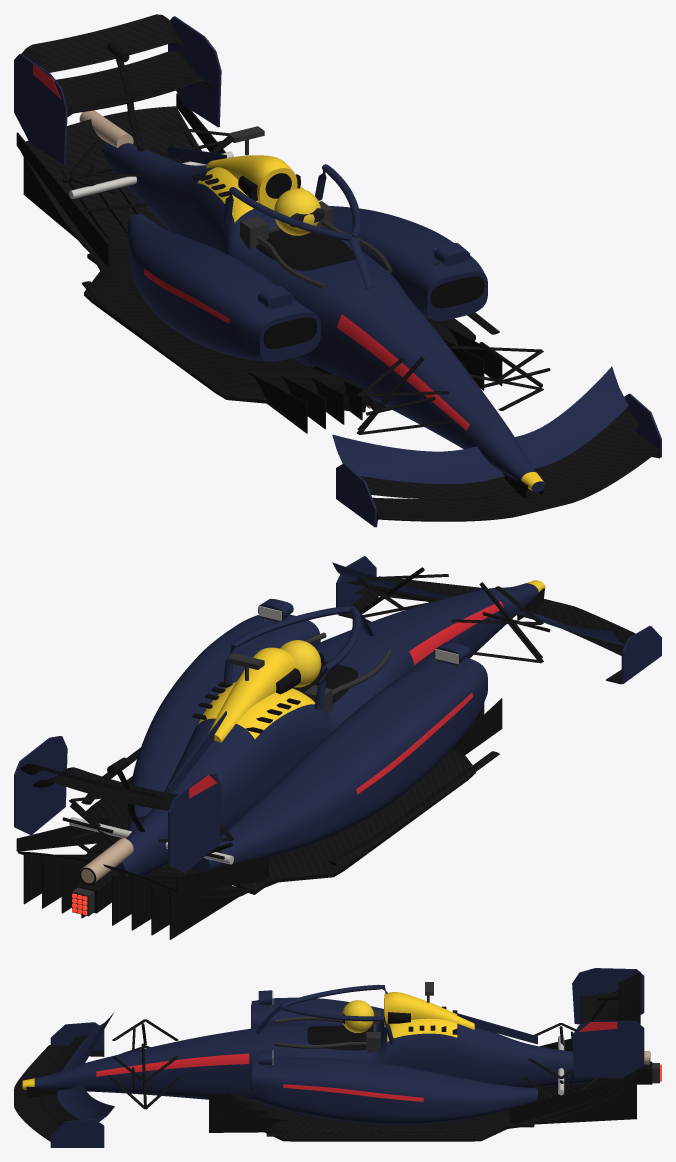
File: f1_2026_body.glb
The picture shows the model from 3 angles, top to bottom: view 1: azimuth 30°, elevation 25°; view 2: azimuth 150°, elevation 25°; view 3: azimuth 270°, elevation 25°; orthographic projection. The views are drawn at different scales.
Parts seen in each view (by area): view 1: body_Livery, body_Carbon, body_Inlet, body_AccentYellow, body_AccentRed, body_Halo, body_CarbonMatte, body_Helmet, body_Exhaust, body_Metal; view 2: body_Livery, body_Carbon, body_AccentYellow, body_AccentRed, body_Halo, body_Inlet, body_CarbonMatte, body_Metal, body_Helmet, body_Exhaust; view 3: body_Livery, body_Carbon, body_AccentYellow, body_AccentRed, body_Inlet, body_Halo, body_CarbonMatte, body_Helmet, body_Metal.
Part boxes in pixels (x1,y1,x2,y2): body_Livery: [14, 16, 661, 527]; body_Carbon: [16, 14, 659, 527]; body_Inlet: [192, 172, 484, 348]; body_AccentYellow: [197, 155, 544, 490]; body_AccentRed: [33, 40, 500, 430]; body_Halo: [223, 164, 373, 288]; body_CarbonMatte: [227, 126, 440, 306]; body_Helmet: [274, 188, 320, 235]; body_Exhaust: [79, 110, 133, 147]; body_Metal: [69, 151, 435, 292]; body_Livery: [14, 556, 661, 876]; body_Carbon: [16, 567, 635, 939]; body_AccentYellow: [197, 580, 545, 742]; body_AccentRed: [52, 601, 503, 798]; body_Halo: [223, 606, 373, 709]; body_Inlet: [79, 661, 358, 884]; body_CarbonMatte: [72, 618, 458, 916]; body_Metal: [69, 606, 458, 864]; body_Helmet: [280, 640, 321, 687]; body_Exhaust: [79, 838, 133, 883]; body_Livery: [34, 968, 644, 1147]; body_Carbon: [14, 971, 652, 1141]; body_AccentYellow: [22, 992, 474, 1089]; body_AccentRed: [96, 969, 617, 1101]; body_Inlet: [251, 998, 650, 1090]; body_Halo: [256, 984, 394, 1044]; body_CarbonMatte: [269, 982, 659, 1083]; body_Helmet: [341, 1000, 374, 1032]; body_Metal: [272, 991, 564, 1095].
Size of the model in its own units: 1.89 by 1.03 by 5.3.
14 materials, 1 textured.
